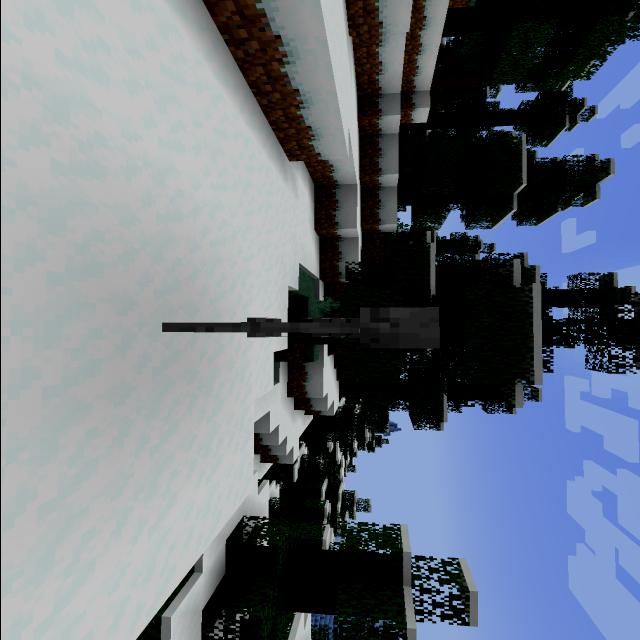Skeleton: (146, 298, 452, 360)
